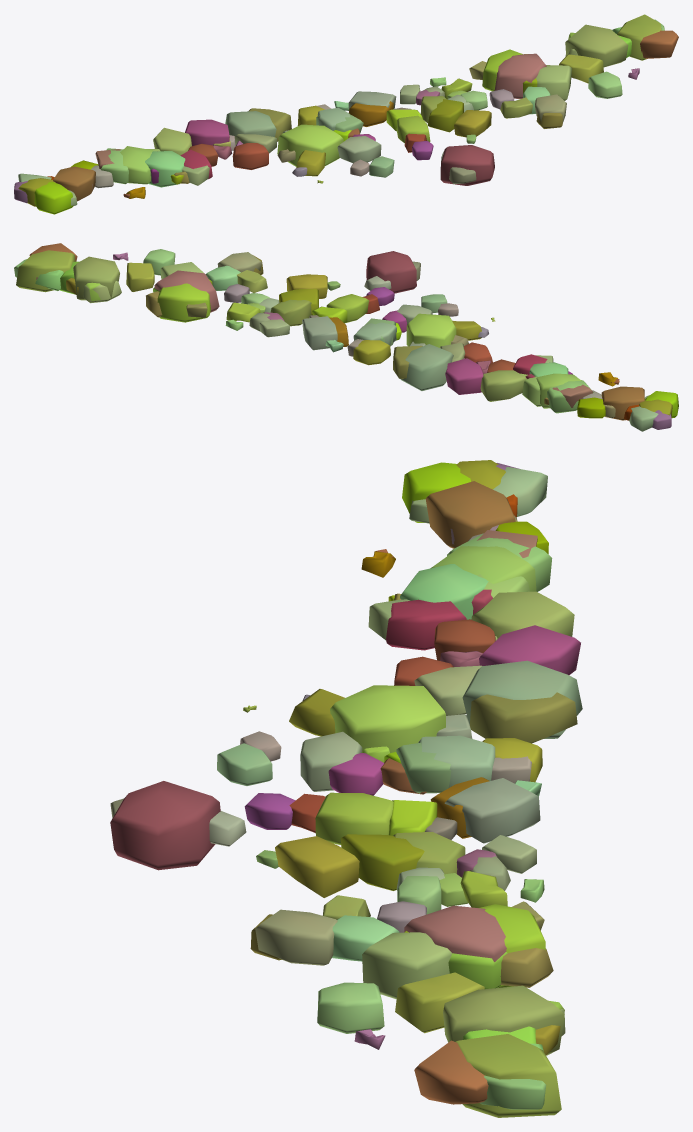
Rendered from SM_GravelWash_1_Stone.glb.
The picture shows the model from 3 angles, top to bottom: view 1: azimuth 30°, elevation 25°; view 2: azimuth 150°, elevation 25°; view 3: azimuth 270°, elevation 25°; orthographic projection. The views are drawn at different scales.
Visible parts, largest first — view 1: SM_GravelWash_1_Stone; view 2: SM_GravelWash_1_Stone; view 3: SM_GravelWash_1_Stone.
Part boxes in pixels (box(x1,y1,x2,y2)): SM_GravelWash_1_Stone: box(14, 14, 678, 214); SM_GravelWash_1_Stone: box(14, 243, 678, 431); SM_GravelWash_1_Stone: box(110, 460, 582, 1117).
Bounding box in the file's own units: 1.63 × 0.0978 × 0.5161.
